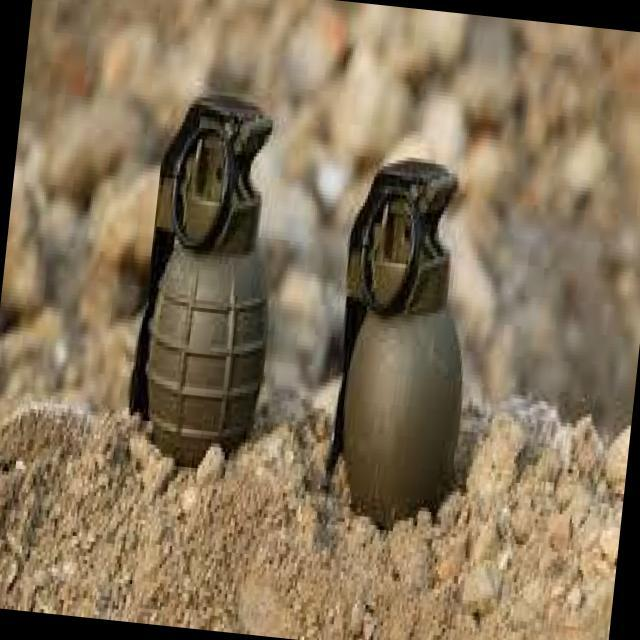grenade: (318, 142, 492, 531), (124, 83, 293, 476)
